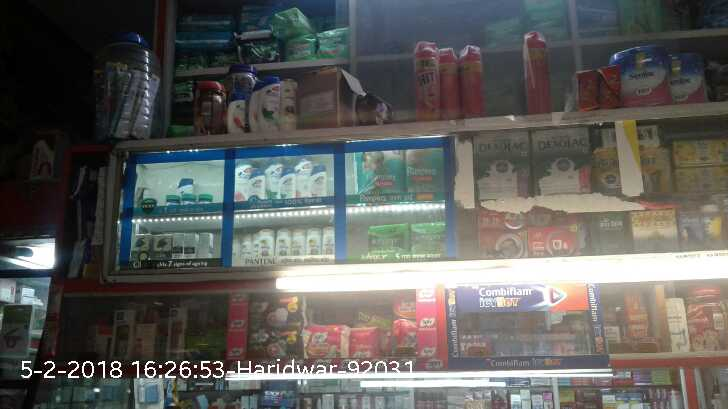vicks: (165, 194, 214, 210)
